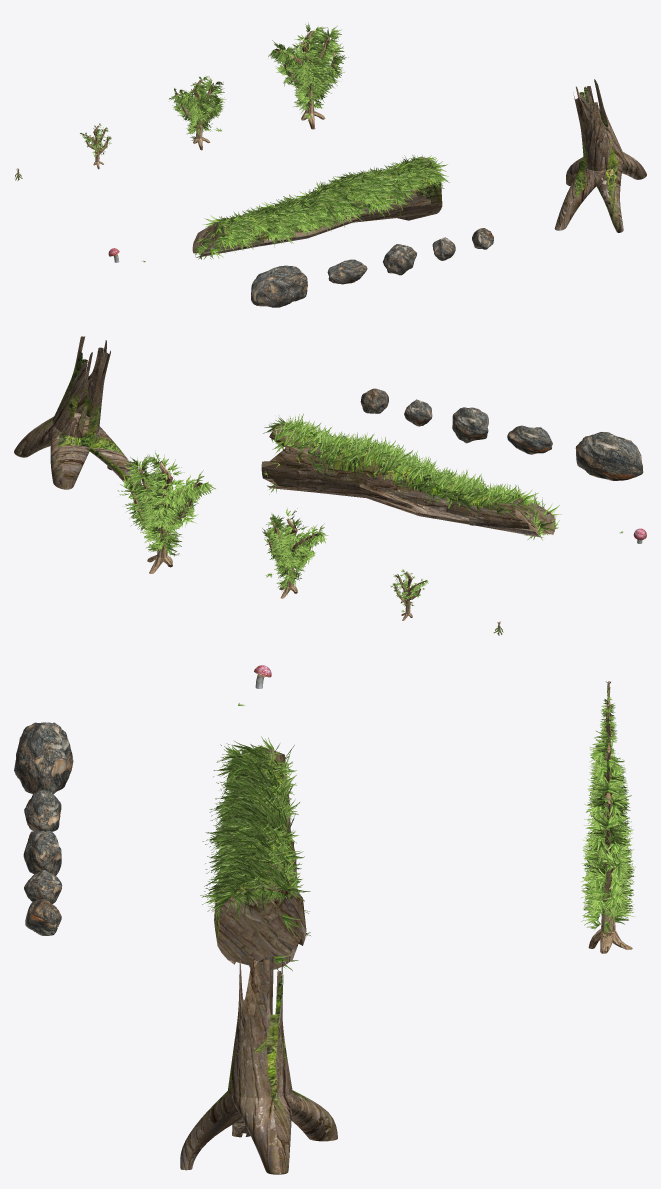
The model's file is Props.glb.
The picture shows the model from 3 angles, top to bottom: view 1: azimuth 30°, elevation 25°; view 2: azimuth 150°, elevation 25°; view 3: azimuth 270°, elevation 25°; orthographic projection. The views are drawn at different scales.
Parts seen in each view (by area): view 1: Cylinder.001, Cylinder, Cube, Cube.001, Icosphere.004, Icosphere.002, Icosphere.003, Cube.002; view 2: Cylinder.001, Cylinder, Cube, Cube.001, Icosphere.004, Icosphere.002, Icosphere.003, Cube.002, Icosphere, Icosphere.001; view 3: Cylinder.001, Cylinder, Cube, Icosphere.004, Cube.001, Icosphere.002, Icosphere.003, Icosphere, Icosphere.001.
Boxes of the visible parts, x1=… form: Cylinder.001: x1=192, y1=155, x2=449, y2=259; Cylinder: x1=554, y1=79, x2=646, y2=232; Cube: x1=268, y1=22, x2=348, y2=129; Cube.001: x1=169, y1=76, x2=226, y2=150; Icosphere.004: x1=251, y1=265, x2=307, y2=307; Icosphere.002: x1=383, y1=244, x2=416, y2=275; Icosphere.003: x1=327, y1=259, x2=367, y2=284; Cube.002: x1=80, y1=123, x2=111, y2=169; Cylinder.001: x1=261, y1=413, x2=561, y2=540; Cylinder: x1=14, y1=336, x2=142, y2=489; Cube: x1=117, y1=450, x2=215, y2=573; Cube.001: x1=262, y1=507, x2=328, y2=598; Icosphere.004: x1=575, y1=432, x2=643, y2=480; Icosphere.002: x1=452, y1=407, x2=488, y2=443; Icosphere.003: x1=507, y1=425, x2=552, y2=454; Cube.002: x1=390, y1=569, x2=428, y2=620; Icosphere: x1=360, y1=388, x2=388, y2=413; Icosphere.001: x1=404, y1=399, x2=432, y2=426; Cylinder.001: x1=200, y1=736, x2=310, y2=971; Cylinder: x1=180, y1=956, x2=337, y2=1174; Cube: x1=580, y1=780, x2=635, y2=953; Icosphere.004: x1=14, y1=722, x2=73, y2=794; Cube.001: x1=588, y1=730, x2=628, y2=838; Icosphere.002: x1=23, y1=830, x2=61, y2=875; Icosphere.003: x1=24, y1=790, x2=61, y2=831; Icosphere: x1=25, y1=899, x2=61, y2=935; Icosphere.001: x1=24, y1=870, x2=62, y2=903.
Bounding box in the file's own units: 33.52 × 9.27 × 21.41.
Materials: 7 (7 with a texture image).
